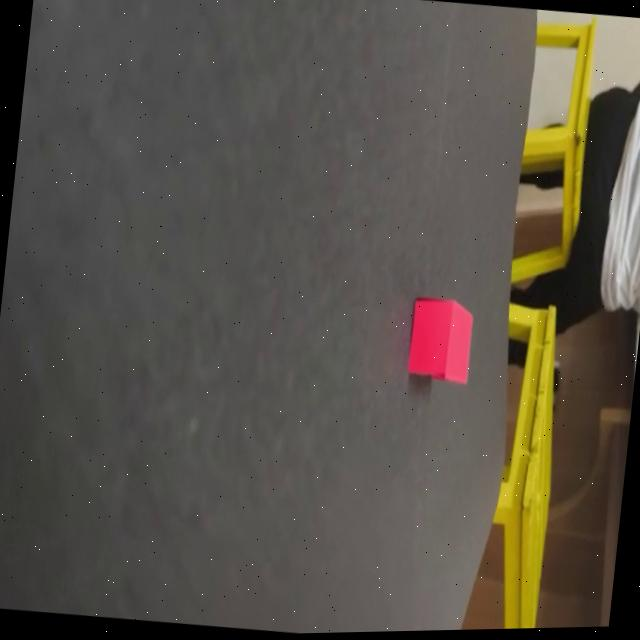red block: (404, 295, 476, 389)
